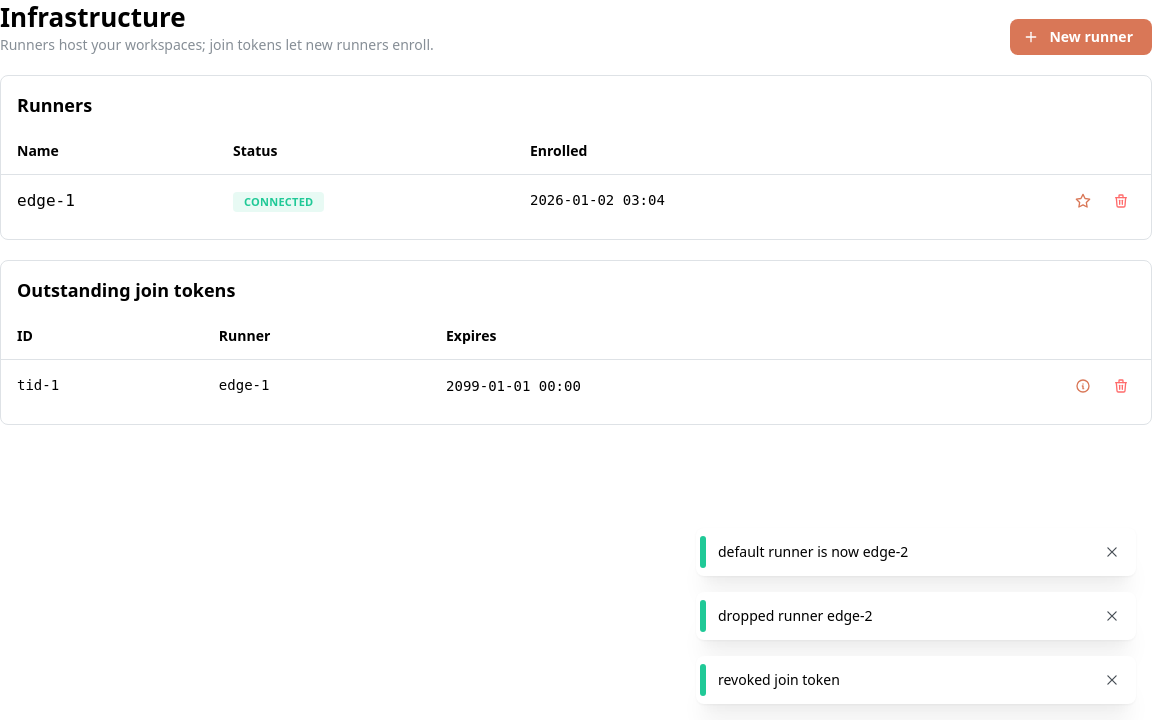
Scenario: InfrastructureView › regenerates a lost token and shows the fresh command once
The width and height of the screenshot is (1152, 720).
Step 1. Click the button named "Setup instructions for edge-1" → [1083, 386], box [1069,372,1097,400]
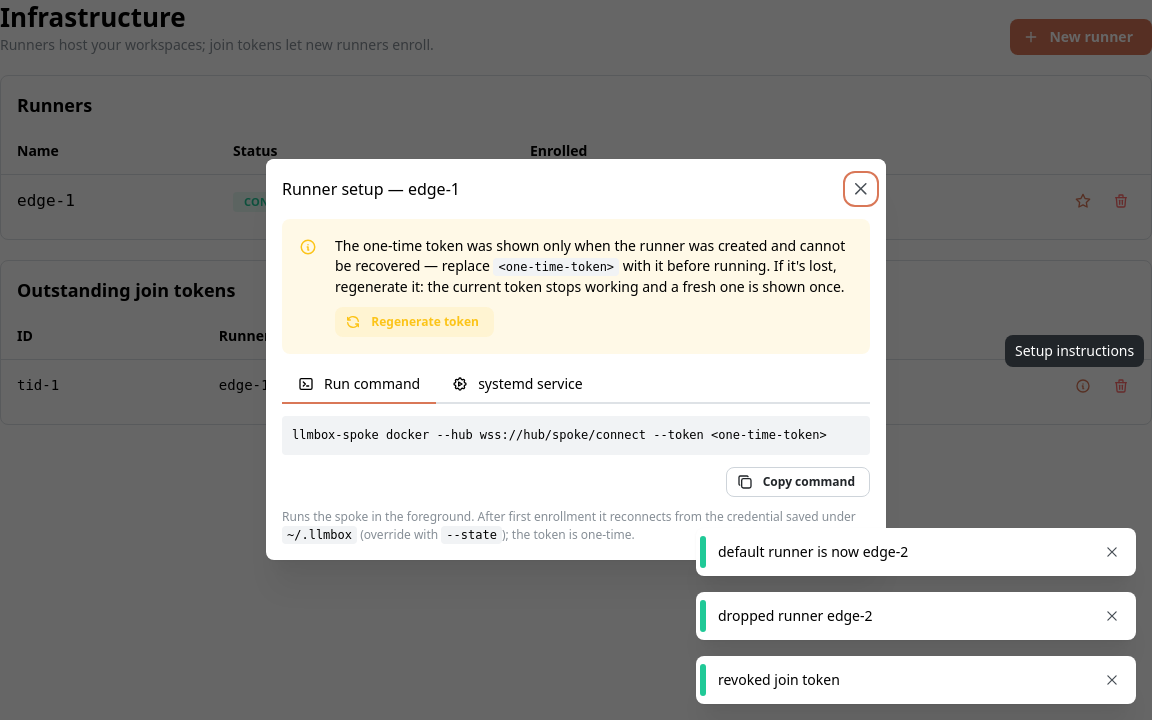
Step 2. Click the button "Regenerate token" → [414, 323], box [335,308,494,338]
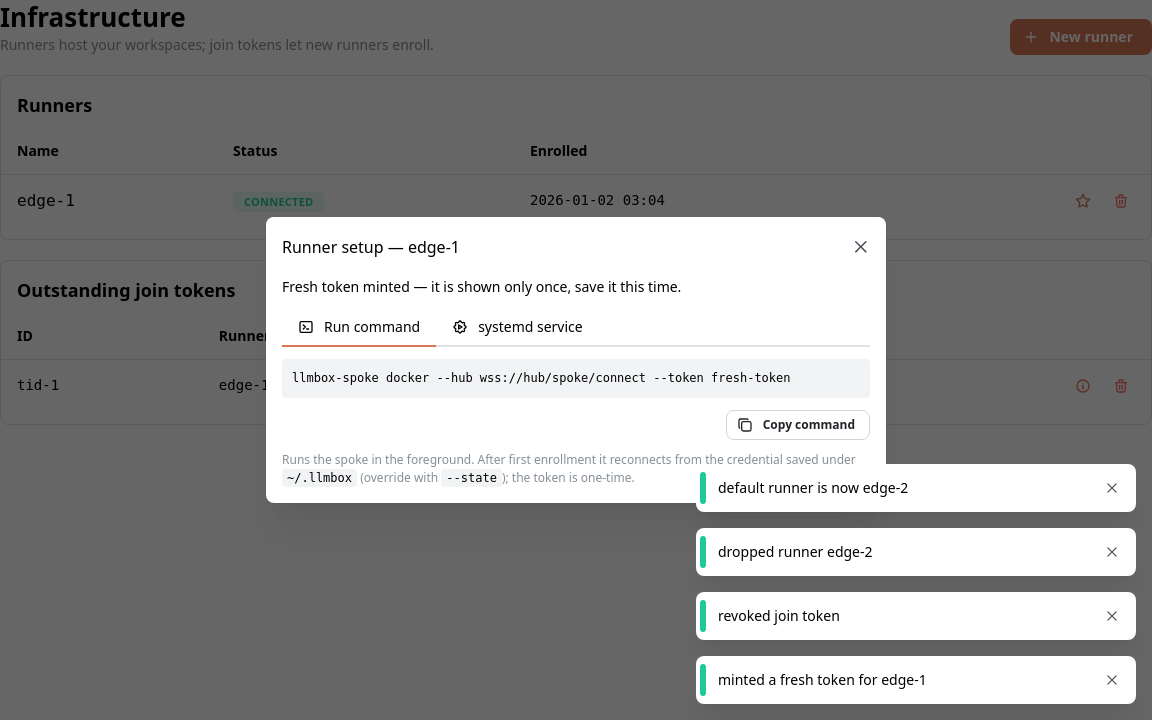
Now the text "--token fresh-token" is shown, box [292,371,790,385]
Now the text "--token <one-time-token>" is gone
Now the text "shown only when the runner was created" is gone
